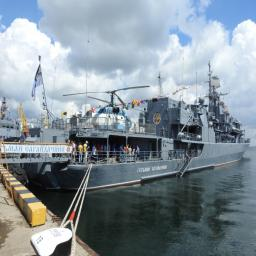Fragata: (35, 59, 253, 197)
